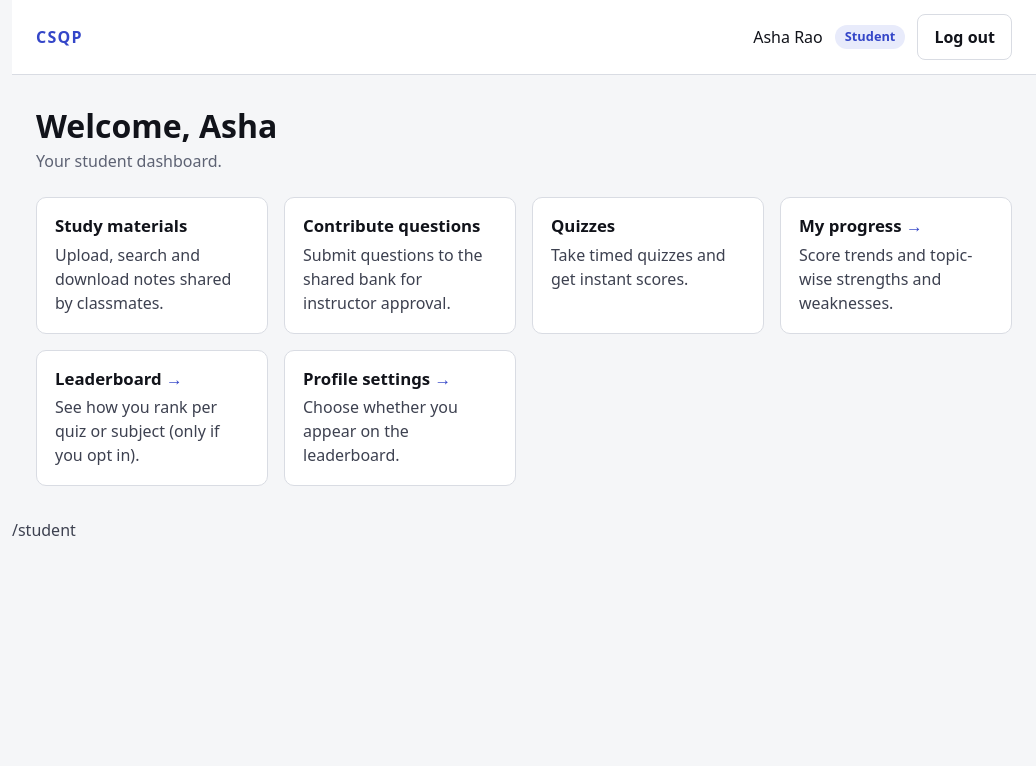
Scenario: Student progress page (CSQP-27) › is linked from the student dashboard
Click the link "My progress".
click(850, 226)  # box [799,214,902,237]
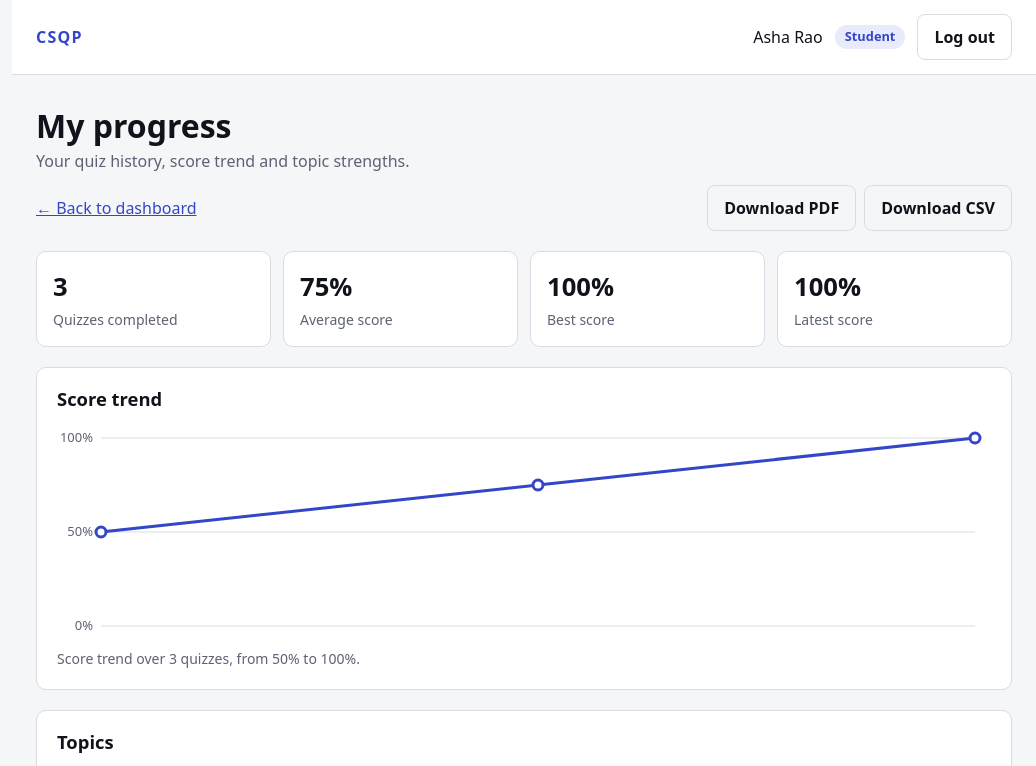
Expected: the heading "My progress" is shown, [36,104,232,147]
